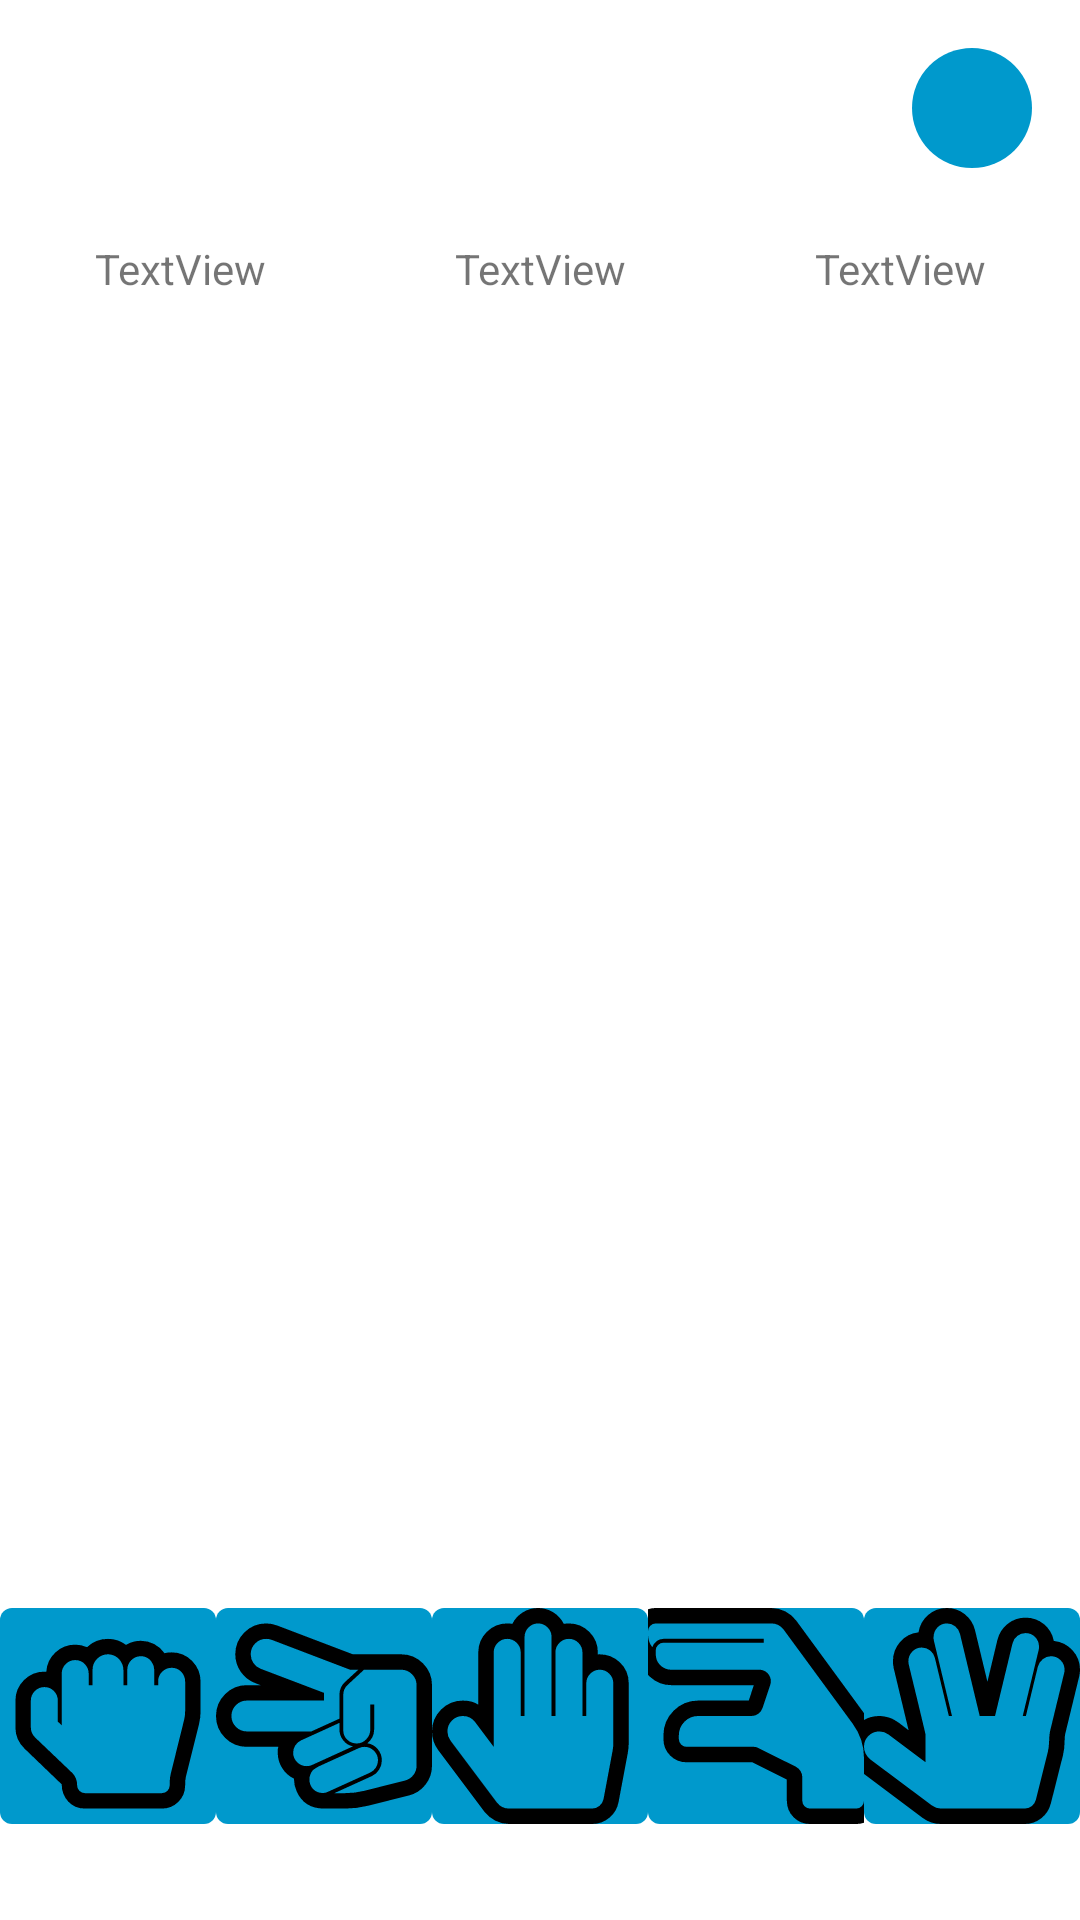

Where to tap for icons on this 1080px x 1920px app screen, as point (x, y):
lizard: point (756, 1716)
paper: point (540, 1716)
rock: point (108, 1724)
scissors: point (324, 1716)
spock: point (972, 1716)
